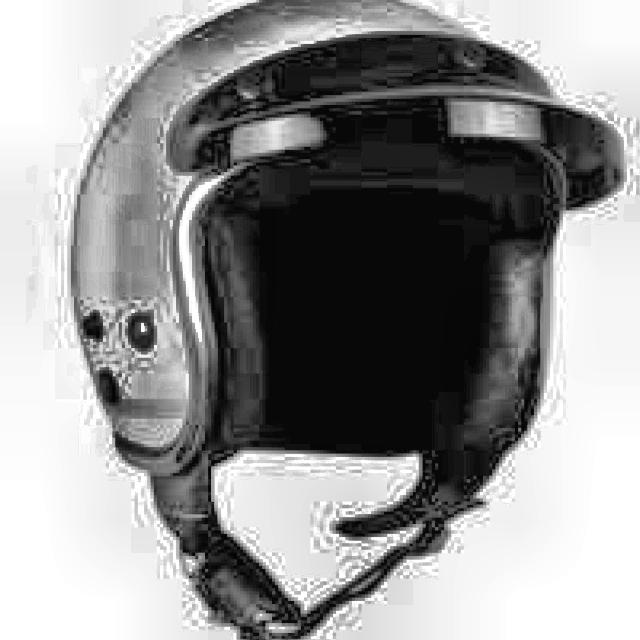Helmet: (67, 0, 636, 640)
